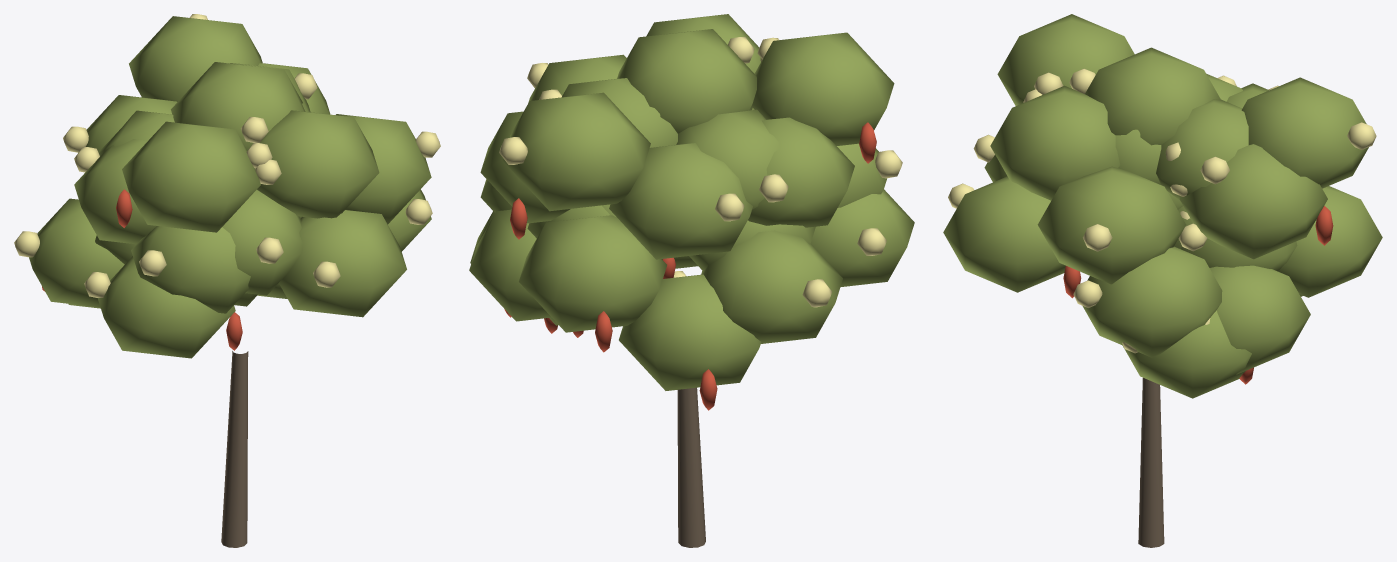
Rendered from adult-c.lod0.glb.
3 renders of one model, left to right at view 1: azimuth 30°, elevation 25°; view 2: azimuth 150°, elevation 25°; view 3: azimuth 270°, elevation 25°, orthographic. The views are drawn at different scales.
Parts seen in each view (by area): view 1: foliage, flowers, bark, fruit; view 2: foliage, flowers, bark, fruit; view 3: foliage, flowers, bark, fruit.
Boxes of the visible parts, <box> form: foliage: <box>29,16,431,358</box>; flowers: <box>14,14,440,297</box>; bark: <box>221,351,248,547</box>; fruit: <box>42,189,242,350</box>; foliage: <box>469,14,914,390</box>; flowers: <box>499,37,902,307</box>; bark: <box>677,387,705,547</box>; fruit: <box>504,122,876,410</box>; foliage: <box>943,14,1382,398</box>; flowers: <box>948,68,1376,353</box>; bark: <box>1138,378,1164,547</box>; fruit: <box>1063,206,1333,384</box>.
Bounding box in the file's own units: 5.62 × 7 × 5.68.
